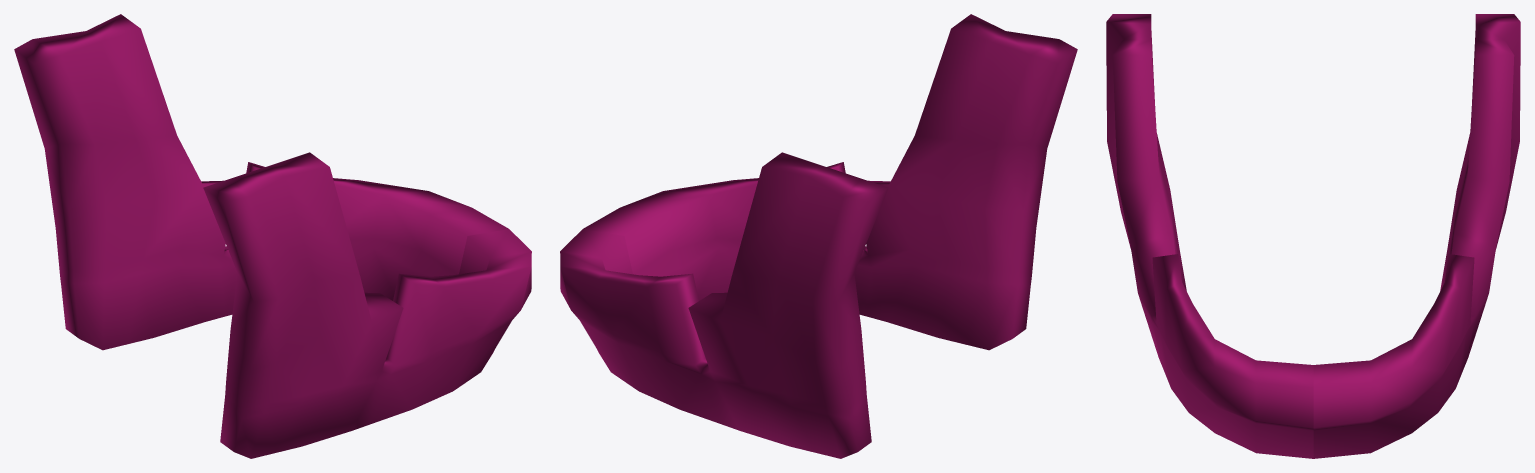
File: Skull_02.fbx
3 renders of one model, left to right at view 1: azimuth 30°, elevation 25°; view 2: azimuth 150°, elevation 25°; view 3: azimuth 270°, elevation 25°, orthographic. The views are drawn at different scales.
Parts seen in each view (by area): view 1: Skull_02; view 2: Skull_02; view 3: Skull_02.
Part boxes in pixels (x1,y1,x2,y2): Skull_02: (14,14,531,458); Skull_02: (560,14,1077,458); Skull_02: (1106,14,1520,458).
Size of the model in its own units: 14.99 by 11.03 by 14.35.
